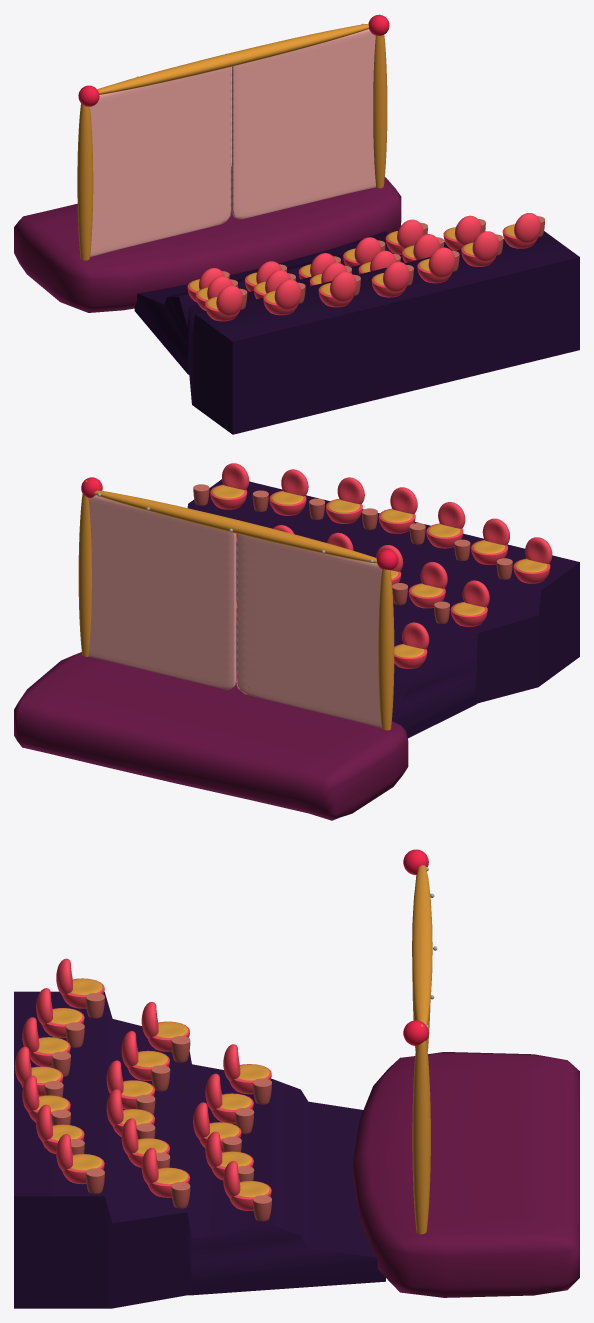
The model's file is organicTheater.fbx.
3 views of the same model, one above another, from view 1: azimuth 30°, elevation 25°; view 2: azimuth 150°, elevation 25°; view 3: azimuth 270°, elevation 25° (orthographic). The views are drawn at different scales.
Visible parts, largest first — view 1: pCube1, pasted__pasted__pSphere9, pasted__pasted__pPlane4, pasted__pasted__pPlane3, group1_pSphere2, group2_pSphere2, group7_pSphere2, group3_pSphere2, group4_pSphere2, group5_pSphere2, group6_pSphere2, pSphere17 (+5 smaller); view 2: pasted__pasted__pSphere9, pCube1, pasted__pasted__pPlane4, pasted__pasted__pPlane3, group5_pSphere2, pSphere6, group4_pSphere2, group6_pSphere2, group7_pSphere2, group2_pSphere2, group1_pSphere2, pSphere22 (+2 smaller); view 3: pCube1, pasted__pasted__pSphere9, pSphere17, pSphere6, pSphere30, pSphere33, pSphere22, group4_pSphere2, group6_pSphere2, pSphere38, group3_pSphere2, group1_pSphere2 (+8 smaller).
Boxes of the visible parts, x1,y1,x2,y2 form: pCube1: (134,231,579,434); pasted__pasted__pSphere9: (14,14,401,312); pasted__pasted__pPlane4: (232,29,375,219); pasted__pasted__pPlane3: (90,66,231,256); group1_pSphere2: (318,271,356,307); group2_pSphere2: (371,261,409,297); group7_pSphere2: (417,247,455,283); group3_pSphere2: (263,279,301,315); group4_pSphere2: (205,285,243,321); group5_pSphere2: (461,231,499,266); group6_pSphere2: (502,213,540,248); pSphere17: (443,215,481,250); pasted__pasted__pSphere9: (14,477,408,820); pCube1: (187,479,579,738); pasted__pasted__pPlane4: (88,495,235,689); pasted__pasted__pPlane3: (236,534,389,728); group5_pSphere2: (269,469,308,515); pSphere6: (450,580,489,626); group4_pSphere2: (513,537,552,583); group6_pSphere2: (210,463,249,509); group7_pSphere2: (326,477,364,523); group2_pSphere2: (378,487,417,533); group1_pSphere2: (426,502,465,548); pSphere22: (408,562,447,608); pCube1: (14,991,385,1308); pasted__pasted__pSphere9: (353,849,579,1297); pSphere17: (141,1148,189,1197); pSphere6: (141,1002,189,1051); pSphere30: (205,1073,253,1123); pSphere33: (223,1044,271,1094); pSphere22: (121,1031,169,1080); group4_pSphere2: (56,958,104,1008); group6_pSphere2: (56,1134,104,1184); pSphere38: (223,1161,271,1210); group3_pSphere2: (36,988,84,1037); group1_pSphere2: (22,1017,70,1067).
Bounding box in the file's own units: 19.12 × 11.74 × 22.36.
Materials: 7 (6 with a texture image).
